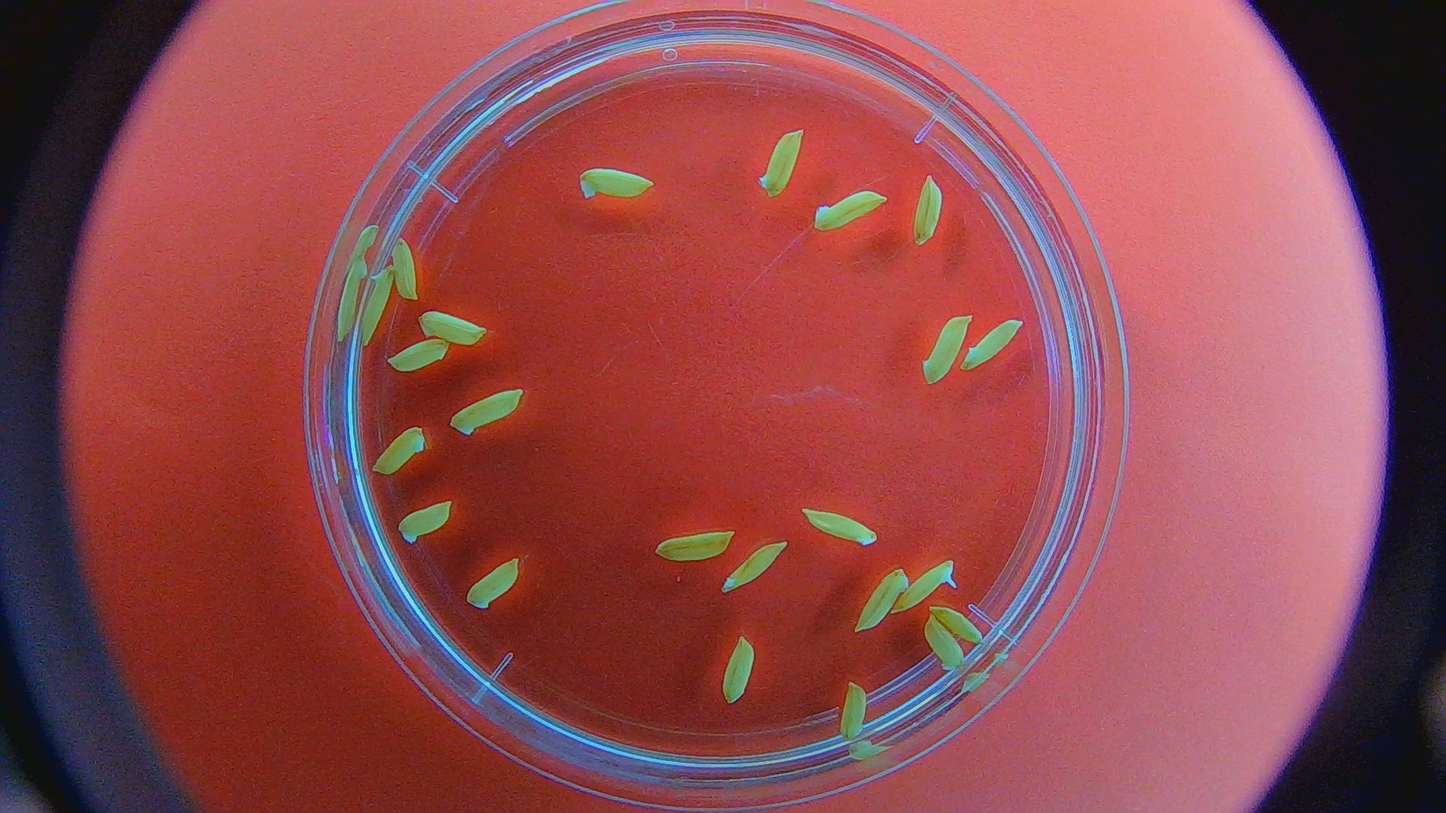no: (808, 187, 889, 236), (449, 385, 524, 437), (853, 565, 911, 632), (797, 505, 881, 549), (757, 129, 805, 203), (962, 315, 1023, 373), (721, 539, 786, 593), (921, 315, 972, 383), (651, 528, 738, 566), (577, 166, 657, 206), (464, 554, 522, 609), (397, 496, 458, 547), (358, 264, 393, 344), (923, 614, 968, 673), (374, 426, 426, 477), (419, 308, 485, 348), (911, 172, 944, 251), (388, 334, 451, 372), (721, 638, 755, 703), (391, 240, 421, 301), (932, 606, 981, 640), (840, 682, 867, 738)
yes: (886, 556, 959, 617)
